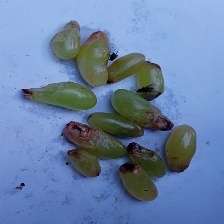grapes: (0, 14, 190, 183)
